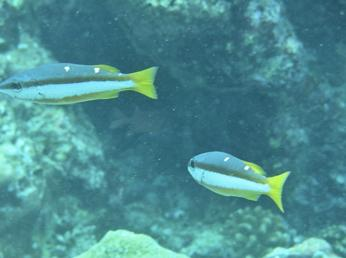Lutjanidae -Snappers-: (0, 59, 162, 106), (183, 147, 292, 214)
